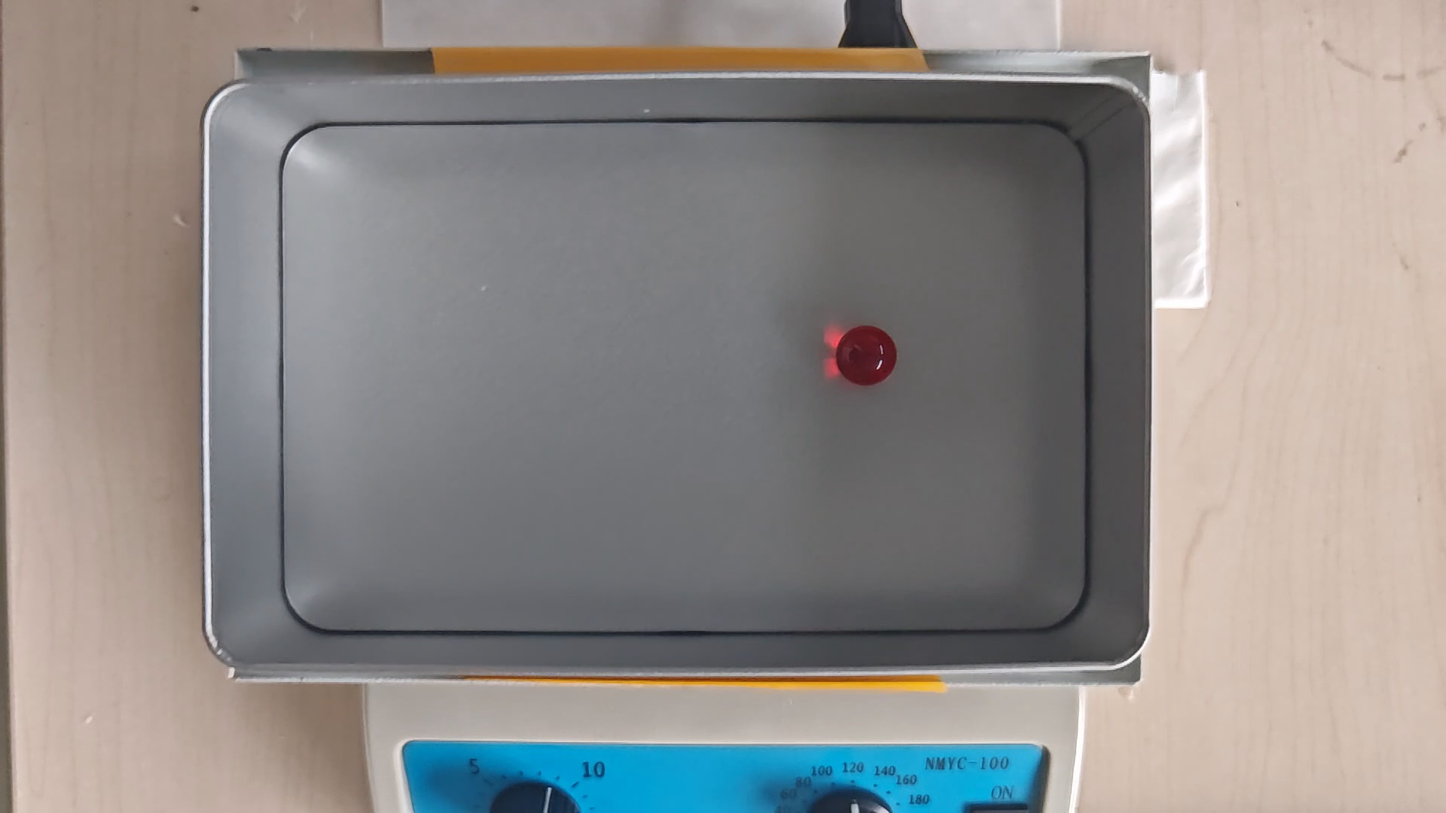ball: (838, 325, 896, 386)
container: (281, 123, 1087, 633)
